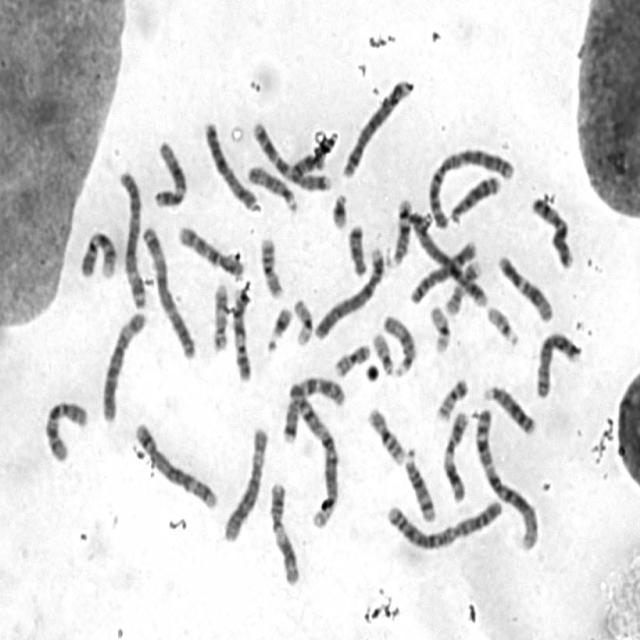A1: (474, 408, 541, 553), (288, 385, 340, 530)
A2: (427, 146, 515, 233), (385, 498, 504, 550)
A3: (142, 225, 198, 360), (116, 170, 150, 310)
B4: (412, 212, 488, 306), (313, 246, 385, 341)
B5: (134, 422, 218, 512), (342, 79, 416, 179)
C10: (178, 225, 246, 278), (43, 397, 89, 467)
C11: (268, 479, 302, 585), (442, 409, 470, 505)
C12: (495, 253, 555, 326), (152, 140, 190, 210)
C6: (221, 427, 271, 542), (101, 309, 148, 422)
C7: (254, 120, 331, 191), (284, 378, 347, 444)
C8: (409, 240, 478, 306), (534, 332, 583, 400)
C9: (231, 288, 255, 384), (80, 230, 117, 280)
D13: (484, 382, 539, 438), (450, 175, 502, 227)
D14: (403, 443, 438, 524), (383, 197, 413, 271)
D15: (246, 164, 300, 214), (384, 314, 419, 378)
E16: (367, 404, 407, 468), (260, 236, 286, 300)
E17: (446, 260, 484, 314), (212, 282, 230, 351)
E18: (347, 224, 369, 277), (290, 151, 326, 182)
F19: (428, 304, 455, 356), (292, 298, 316, 349)
F20: (436, 378, 470, 426), (333, 345, 371, 379)
G21: (266, 304, 294, 355), (330, 191, 348, 234)
G22: (484, 303, 520, 348), (372, 334, 396, 376)
X: (202, 119, 264, 214), (532, 195, 574, 271)
